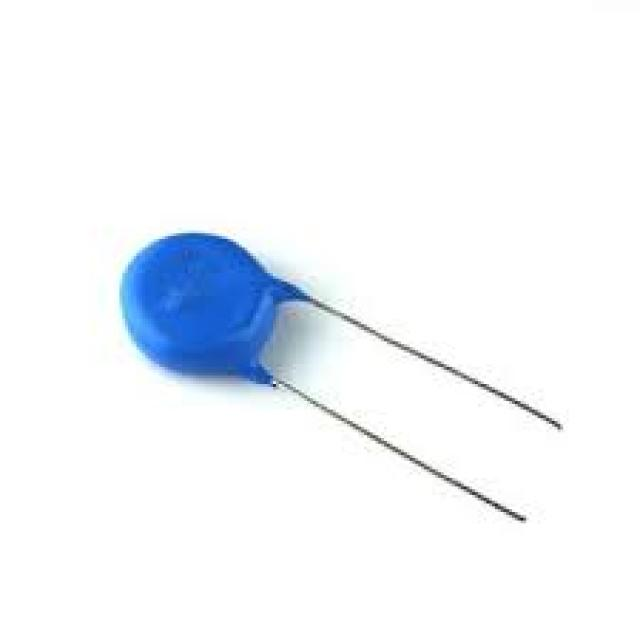Capacitor: (122, 236, 563, 523)
